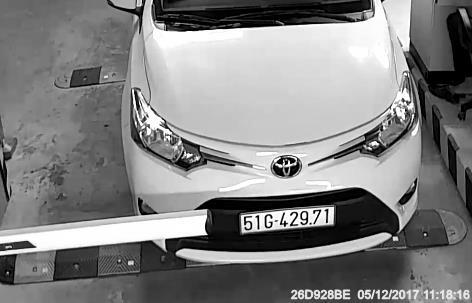License-plate: (235, 198, 339, 243)
